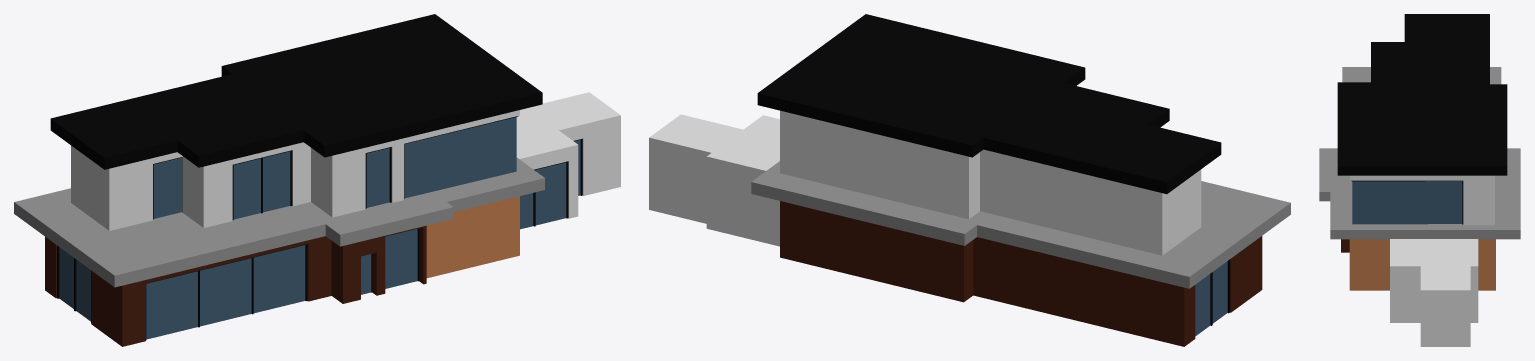
File: Modern1.fbx
3 renders of one model, left to right at view 1: azimuth 30°, elevation 25°; view 2: azimuth 150°, elevation 25°; view 3: azimuth 270°, elevation 25°, orthographic. The views are drawn at different scales.
Parts seen in each view (by area): view 1: Modern1_Roof, Modern1_Windows, Modern1_Concrete, Modern1_Detail, Modern1_Brick, Modern1_Wood, Modern1_Frame; view 2: Modern1_Roof, Modern1_Concrete, Modern1_Brick, Modern1_Detail, Modern1_Windows; view 3: Modern1_Roof, Modern1_Concrete, Modern1_Detail, Modern1_Windows, Modern1_Wood, Modern1_Frame.
Part boxes in pixels (left/top/right/bottom): Modern1_Roof: left=50, top=14, right=542, bottom=169; Modern1_Windows: left=59, top=117, right=580, bottom=339; Modern1_Concrete: left=71, top=92, right=620, bottom=230; Modern1_Detail: left=14, top=157, right=544, bottom=287; Modern1_Brick: left=45, top=225, right=426, bottom=346; Modern1_Wood: left=426, top=196, right=519, bottom=278; Modern1_Frame: left=57, top=116, right=582, bottom=339; Modern1_Roof: left=757, top=14, right=1221, bottom=194; Modern1_Concrete: left=649, top=110, right=1201, bottom=255; Modern1_Brick: left=780, top=201, right=1262, bottom=346; Modern1_Detail: left=751, top=161, right=1290, bottom=288; Modern1_Windows: left=1195, top=261, right=1227, bottom=336; Modern1_Roof: left=1337, top=14, right=1507, bottom=175; Modern1_Concrete: left=1350, top=175, right=1494, bottom=346; Modern1_Detail: left=1319, top=67, right=1520, bottom=239; Modern1_Windows: left=1352, top=181, right=1462, bottom=224; Modern1_Wood: left=1349, top=239, right=1495, bottom=290; Modern1_Frame: left=1351, top=180, right=1463, bottom=224.
Size of the model in its own units: 2426 by 687 by 962.
